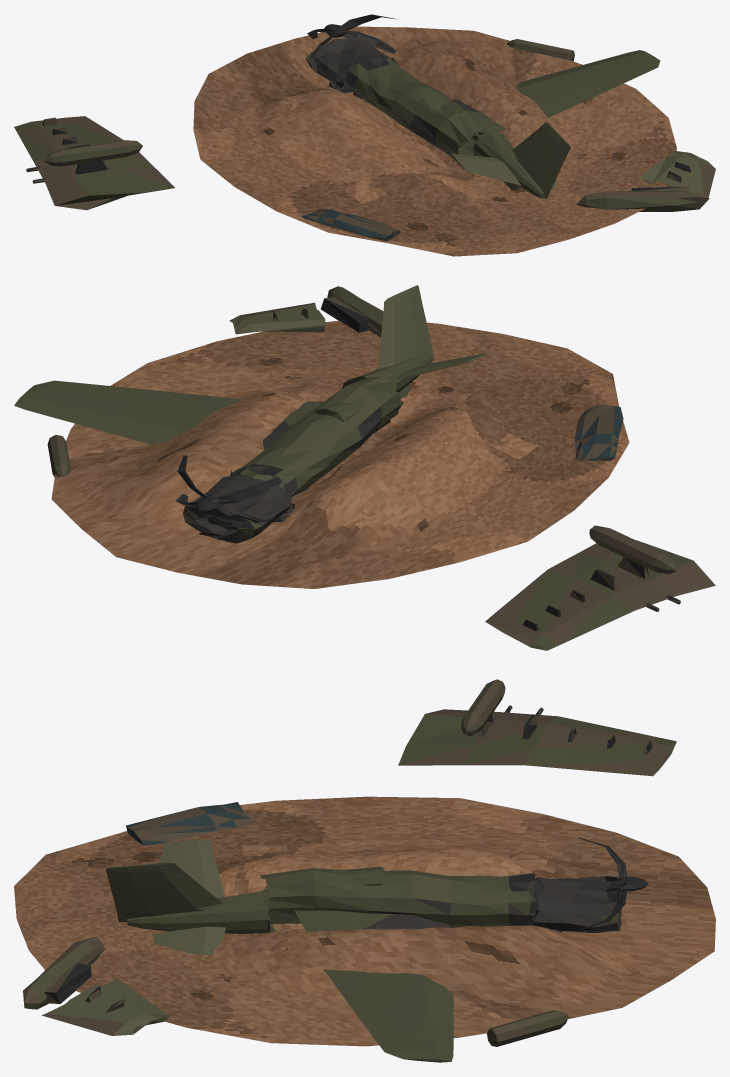
The model's file is a1_skyraider_crashed.glb.
The picture shows the model from 3 angles, top to bottom: view 1: azimuth 30°, elevation 25°; view 2: azimuth 150°, elevation 25°; view 3: azimuth 270°, elevation 25°; orthographic projection. The views are drawn at different scales.
Parts seen in each view (by area): view 1: wreck_hard_mound, wreck_soft_wing_thrown, wreck_hard_fuselage, wreck_soft_wing_r, wreck_soft_tank_thrown, wreck_soft_tailfin, wreck_soft_panel_1, wreck_hard_engine, wreck_soft_tail, wreck_soft_canopy, wreck_soft_prop, wreck_soft_stab_l (+1 smaller); view 2: wreck_hard_mound, wreck_soft_wing_thrown, wreck_hard_fuselage, wreck_soft_wing_r, wreck_hard_engine, wreck_soft_tailfin, wreck_soft_canopy, wreck_soft_panel_1, wreck_soft_tank_thrown, wreck_soft_prop, wreck_soft_tail, wreck_soft_ord_mk82 (+1 smaller); view 3: wreck_hard_mound, wreck_soft_wing_thrown, wreck_hard_fuselage, wreck_soft_wing_r, wreck_soft_tailfin, wreck_hard_engine, wreck_soft_panel_1, wreck_soft_tail, wreck_soft_canopy, wreck_soft_tank_thrown, wreck_soft_stab_l, wreck_soft_ord_mk82 (+2 smaller).
Part boxes in pixels (left/top/right/bottom): wreck_hard_mound: left=193, top=26, right=676, bottom=256; wreck_soft_wing_thrown: left=14, top=116, right=174, bottom=210; wreck_hard_fuselage: left=341, top=57, right=487, bottom=159; wreck_soft_wing_r: left=452, top=50, right=660, bottom=136; wreck_soft_tank_thrown: left=576, top=187, right=709, bottom=211; wreck_soft_tailfin: left=512, top=122, right=570, bottom=199; wreck_soft_panel_1: left=640, top=150, right=715, bottom=197; wreck_hard_engine: left=305, top=38, right=399, bottom=93; wreck_soft_tail: left=473, top=131, right=544, bottom=198; wreck_soft_canopy: left=301, top=208, right=400, bottom=241; wreck_soft_prop: left=307, top=14, right=396, bottom=71; wreck_soft_stab_l: left=450, top=153, right=521, bottom=185; wreck_hard_mound: left=51, top=320, right=629, bottom=588; wreck_soft_wing_thrown: left=485, top=525, right=715, bottom=650; wreck_hard_fuselage: left=230, top=376, right=403, bottom=509; wreck_soft_wing_r: left=14, top=380, right=323, bottom=449; wreck_hard_engine: left=183, top=474, right=294, bottom=543; wreck_soft_tailfin: left=377, top=285, right=434, bottom=368; wreck_soft_canopy: left=574, top=404, right=623, bottom=461; wreck_soft_panel_1: left=229, top=302, right=325, bottom=334; wreck_soft_tank_thrown: left=321, top=286, right=383, bottom=337; wreck_soft_prop: left=175, top=455, right=281, bottom=522; wreck_soft_tail: left=341, top=354, right=433, bottom=398; wreck_soft_ord_mk82: left=47, top=434, right=70, bottom=477; wreck_hard_mound: left=14, top=796, right=715, bottom=1046; wreck_soft_wing_thrown: left=398, top=679, right=676, bottom=776; wreck_hard_fuselage: left=260, top=866, right=537, bottom=927; wreck_soft_wing_r: left=294, top=910, right=453, bottom=1062; wreck_soft_tailfin: left=105, top=862, right=224, bottom=922; wreck_hard_engine: left=526, top=877, right=621, bottom=932; wreck_soft_panel_1: left=41, top=978, right=169, bottom=1035; wreck_soft_tail: left=127, top=890, right=275, bottom=933; wreck_soft_canopy: left=126, top=802, right=255, bottom=845; wreck_soft_tank_thrown: left=23, top=936, right=105, bottom=1009; wreck_soft_stab_l: left=160, top=839, right=225, bottom=898; wreck_soft_ord_mk82: left=487, top=1010, right=568, bottom=1046.
Size of what is drawn, in the model's own units: 18.79 by 2.65 by 15.2.
Materials: 9 (1 with a texture image).
